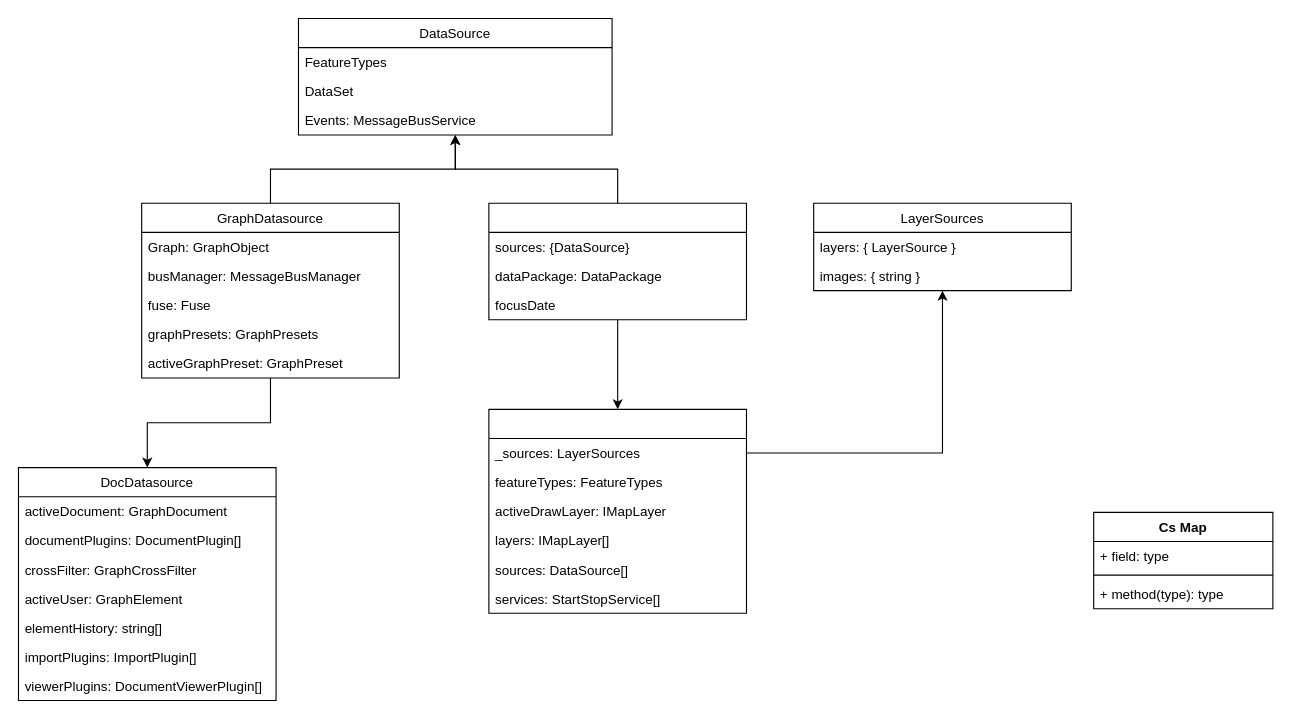
This 1291x719 diagram has some shape labels left out. The box of each missing label's shape, as (x1, y1, x2, y2) in pixels:
DataSources: (488, 202, 746, 320)
MapDatasource: (488, 408, 746, 613)
